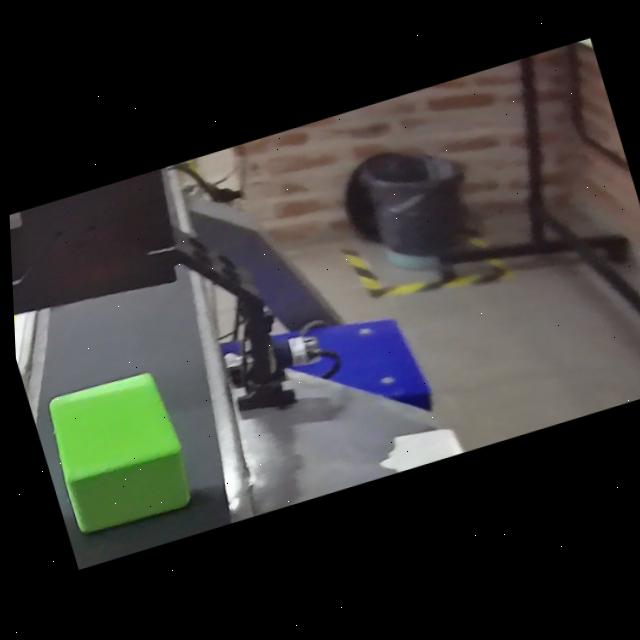greenBox: (26, 350, 202, 549)
redBox: (71, 537, 166, 570)
